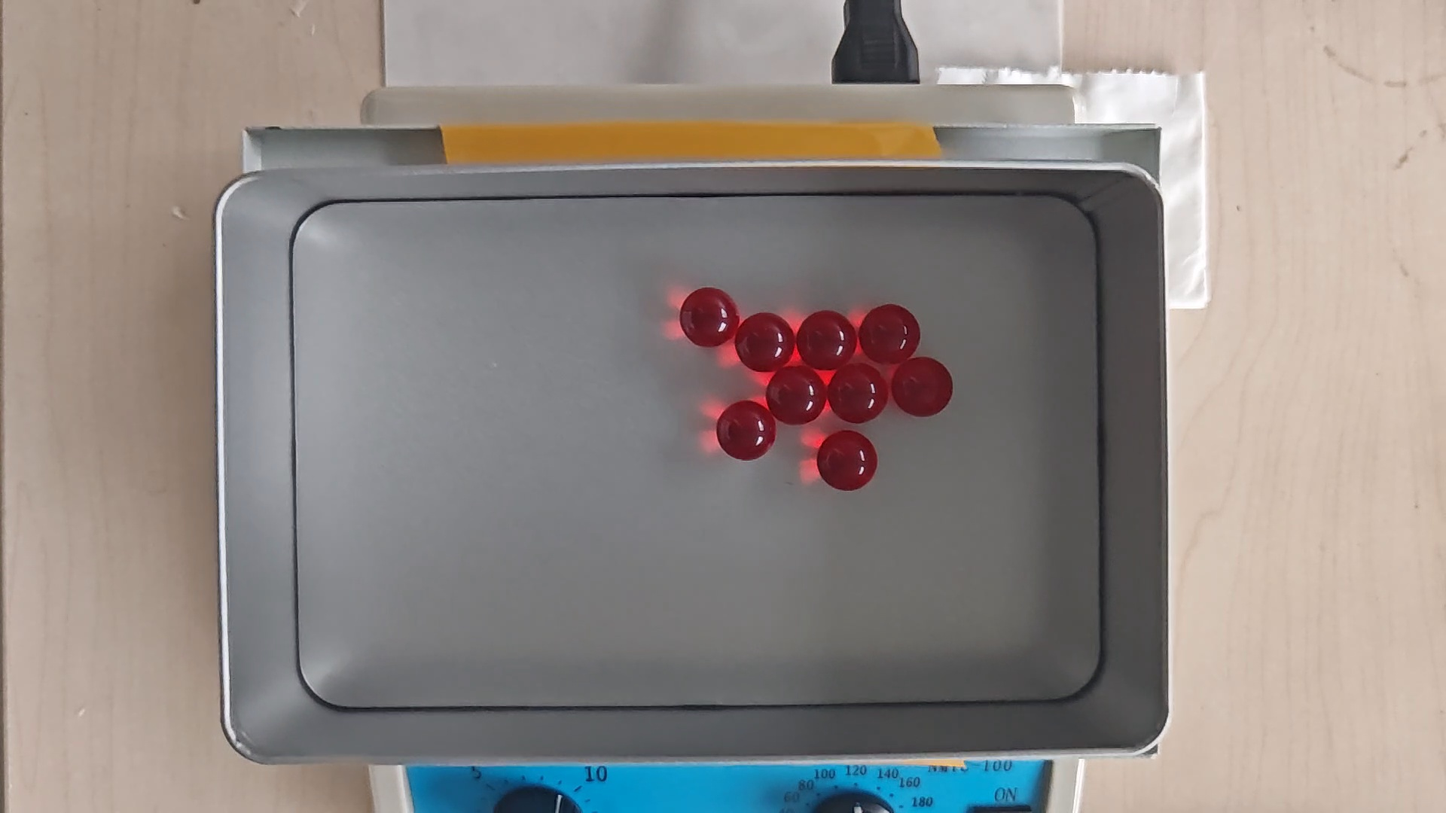ball: (817, 430, 878, 492), (892, 357, 954, 418), (716, 399, 776, 462), (679, 286, 739, 348), (859, 304, 920, 363), (829, 364, 887, 425), (735, 313, 793, 373), (796, 310, 854, 370), (767, 368, 826, 425)
container: (294, 194, 1101, 707)
